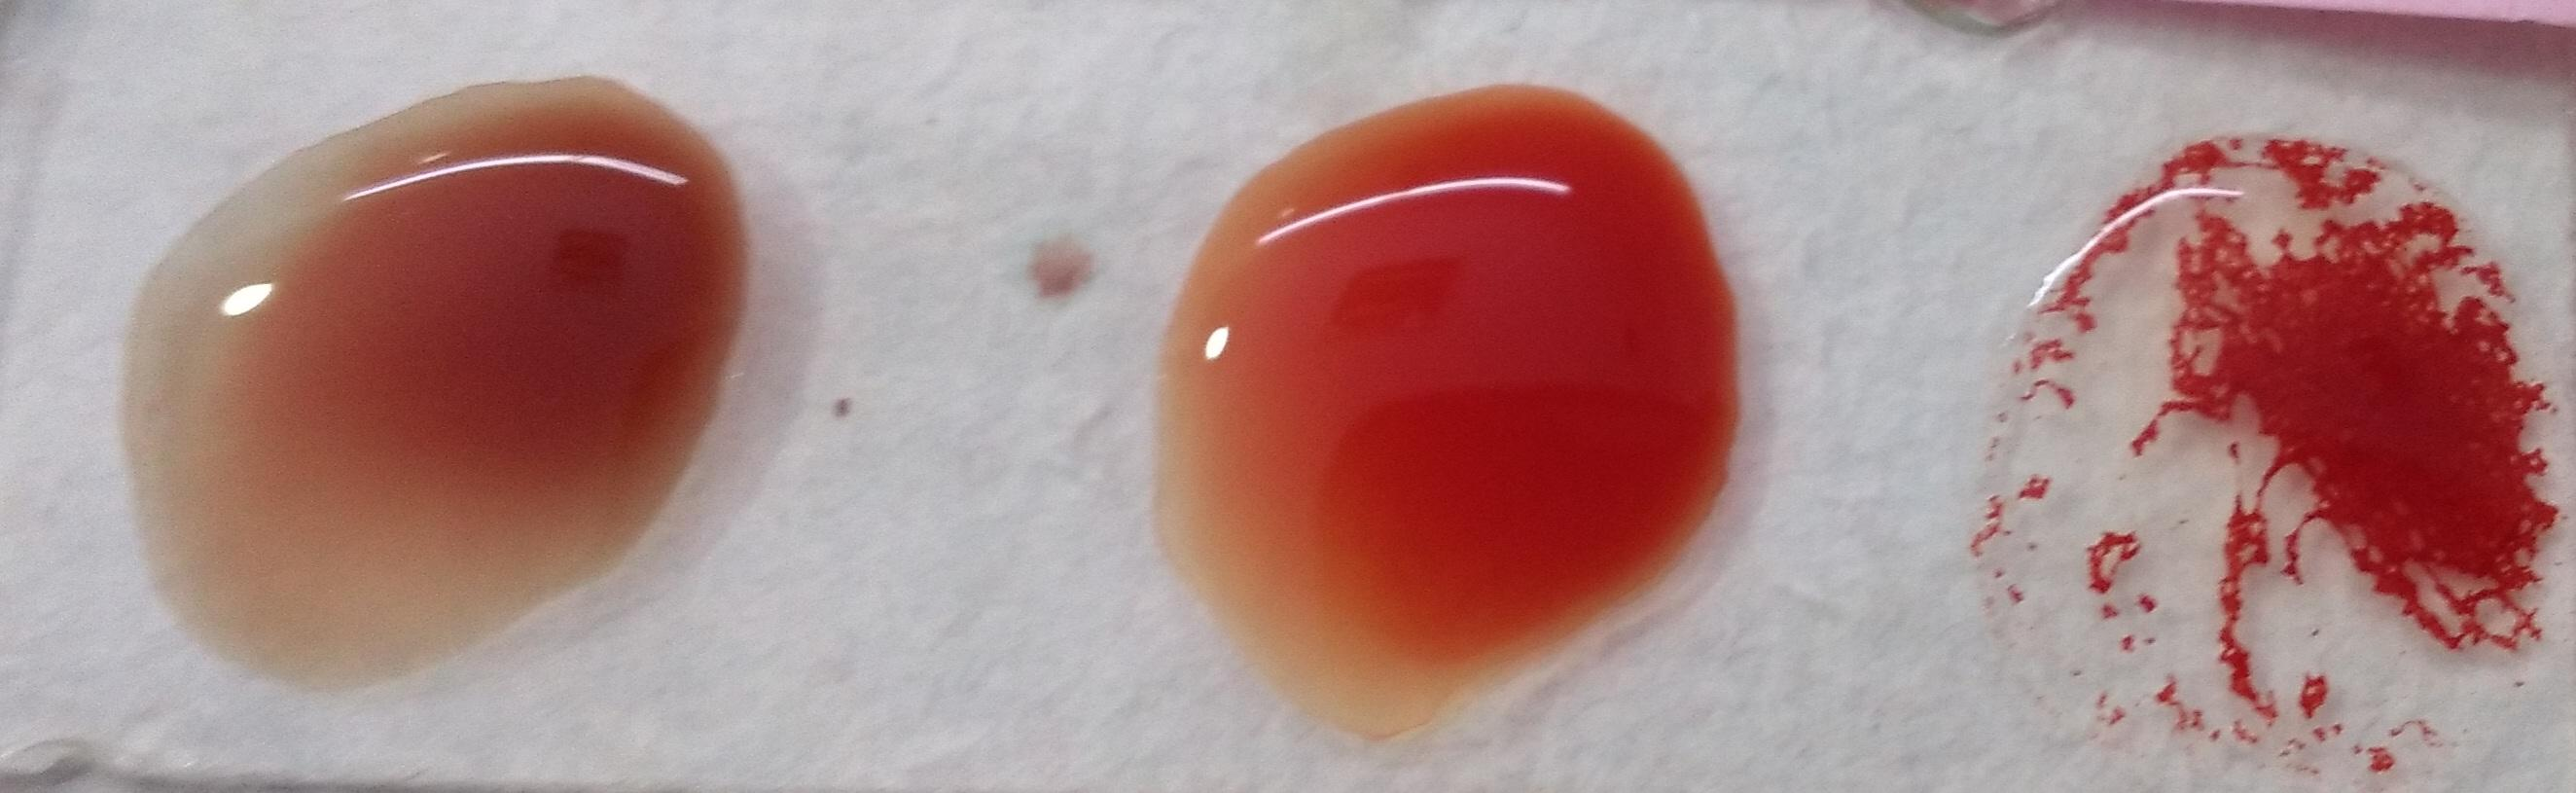D: (1973, 141, 2564, 757)
